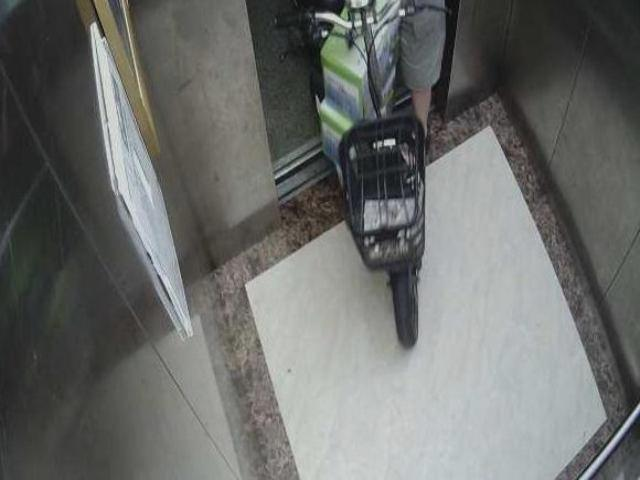emotor: (297, 5, 466, 338)
